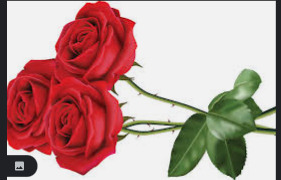RedRose: (43, 1, 138, 85), (46, 85, 125, 171), (7, 55, 70, 154)
